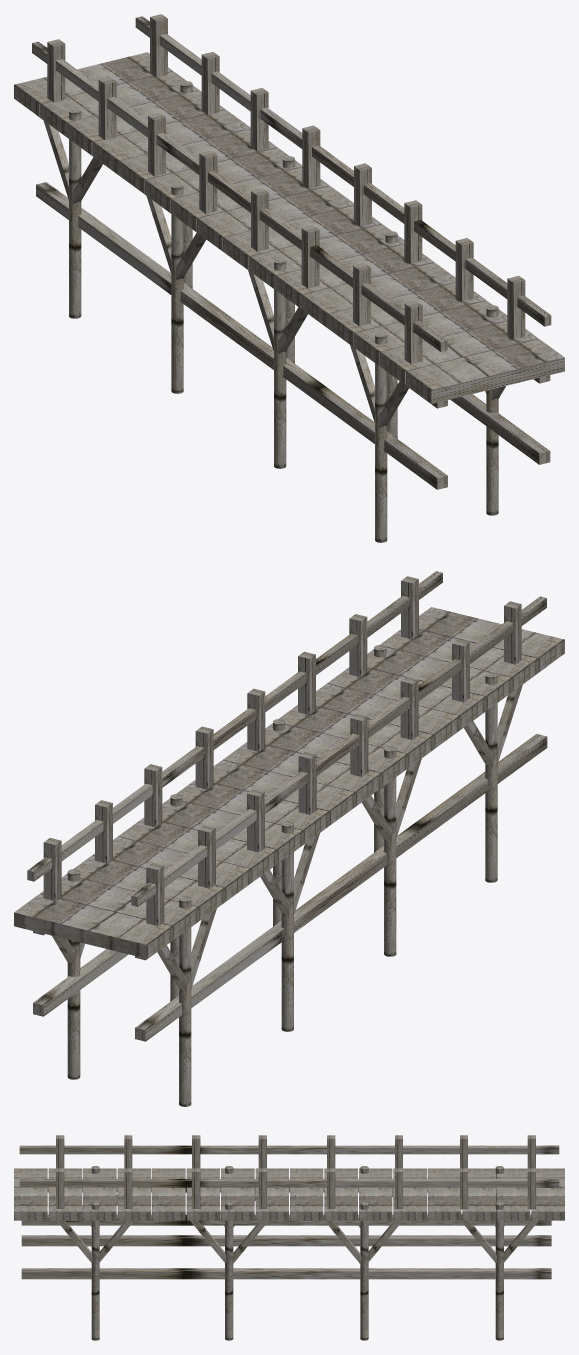
The model's file is Ponte_madeira.glb.
3 views of the same model, one above another, from view 1: azimuth 30°, elevation 25°; view 2: azimuth 150°, elevation 25°; view 3: azimuth 270°, elevation 25° (orthographic). The views are drawn at different scales.
Visible parts, largest first — view 1: path, supportV, supportC, ralling, supportH, supportSlant, supportSlant1; view 2: path, supportV, supportC, ralling, supportH, supportSlant1, supportSlant; view 3: path, supportH, ralling, supportV, supportC, supportSlant1, supportSlant.
Boxes of the visible parts, x1,y1,x2,y2 form: path: (14, 52, 564, 403); supportV: (47, 14, 525, 363); supportC: (69, 81, 498, 542); ralling: (32, 16, 551, 351); supportH: (36, 117, 550, 489); supportSlant: (43, 120, 486, 422); supportSlant1: (73, 157, 505, 427); path: (14, 607, 564, 958); supportV: (43, 576, 521, 925); supportC: (67, 645, 497, 1106); ralling: (27, 571, 546, 906); supportH: (33, 667, 547, 1041); supportSlant1: (80, 684, 522, 988); supportSlant: (52, 721, 492, 991); path: (14, 1168, 564, 1220); supportH: (21, 1187, 551, 1279); ralling: (19, 1145, 559, 1187); supportV: (56, 1135, 535, 1209); supportC: (91, 1166, 503, 1340); supportSlant1: (57, 1205, 496, 1264); supportSlant: (98, 1192, 538, 1264).
Size of the model in its own units: 605 by 1101 by 3276.
5 materials, 5 textured.
